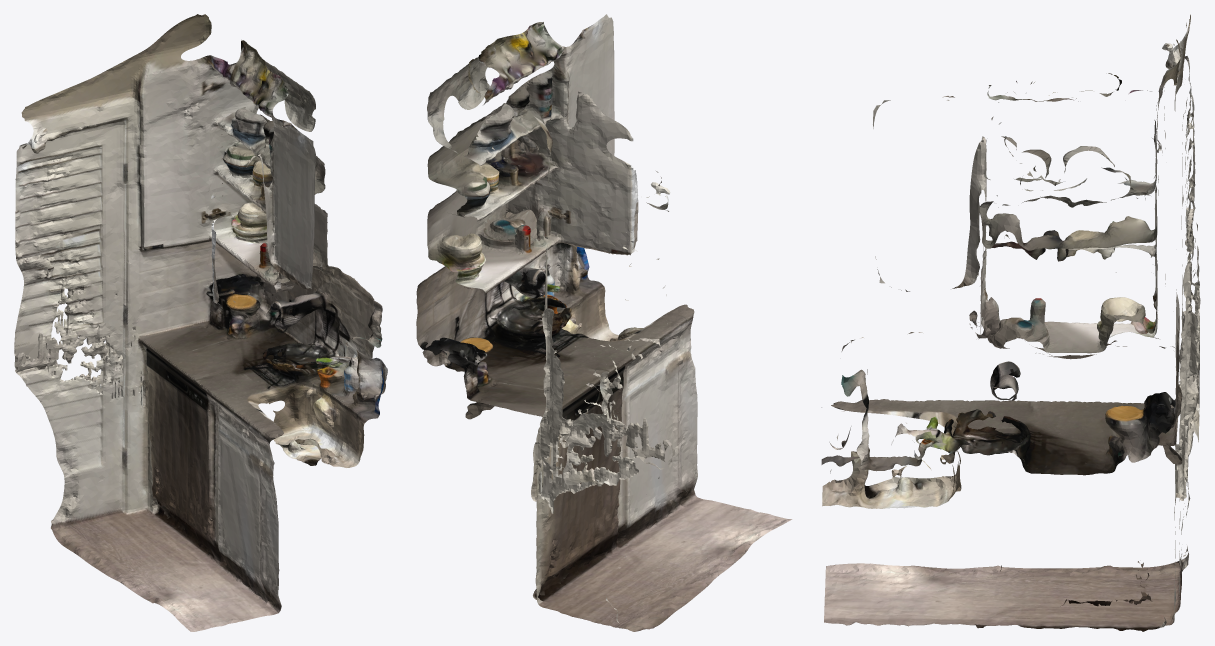
Rendered from cabinet_12.glb.
The picture shows the model from 3 angles, left to right: view 1: azimuth 30°, elevation 25°; view 2: azimuth 150°, elevation 25°; view 3: azimuth 270°, elevation 25°; orthographic projection. The views are drawn at different scales.
Size of the model in its own units: 1.3 by 2.51 by 1.4.
Materials: 1 (1 with a texture image).
